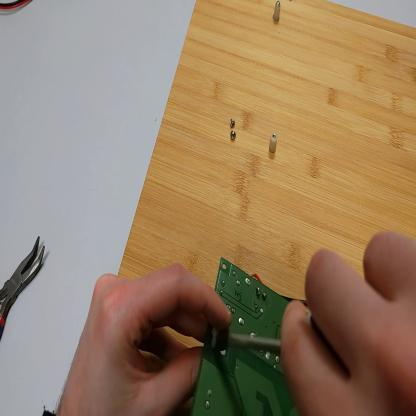hand: (57, 260, 232, 415), (280, 236, 416, 415)
low voltage board: (191, 258, 301, 416)
pliers: (1, 234, 48, 342)
screwdriver-: (217, 311, 361, 374)
working area: (120, 3, 416, 370)
